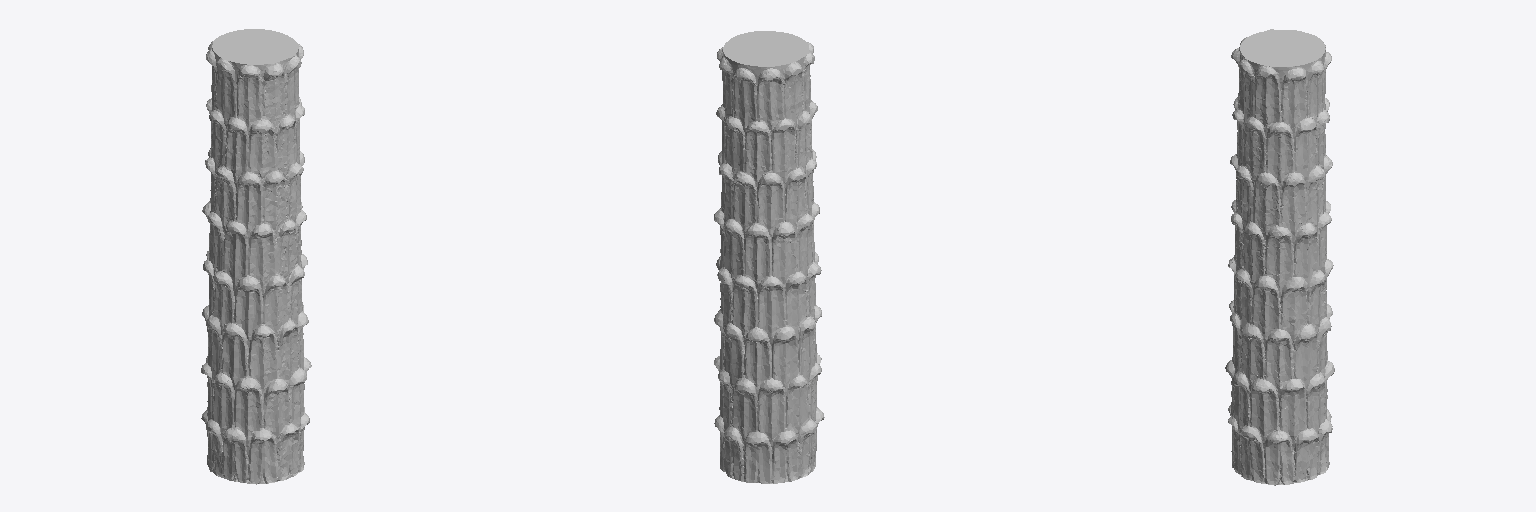
The model's file is florian_third_storey.obj.
3 renders of one model, left to right at view 1: azimuth 30°, elevation 25°; view 2: azimuth 150°, elevation 25°; view 3: azimuth 270°, elevation 25°, orthographic.
Parts seen in each view (by area): view 1: Florian_third_storey; view 2: Florian_third_storey; view 3: Florian_third_storey.
Part boxes in pixels (x1,y1,x2,y2): Florian_third_storey: (201, 29, 311, 484); Florian_third_storey: (714, 31, 824, 483); Florian_third_storey: (1225, 29, 1334, 485).
Bounding box in the file's own units: 0.9314 × 3.9 × 0.9269.